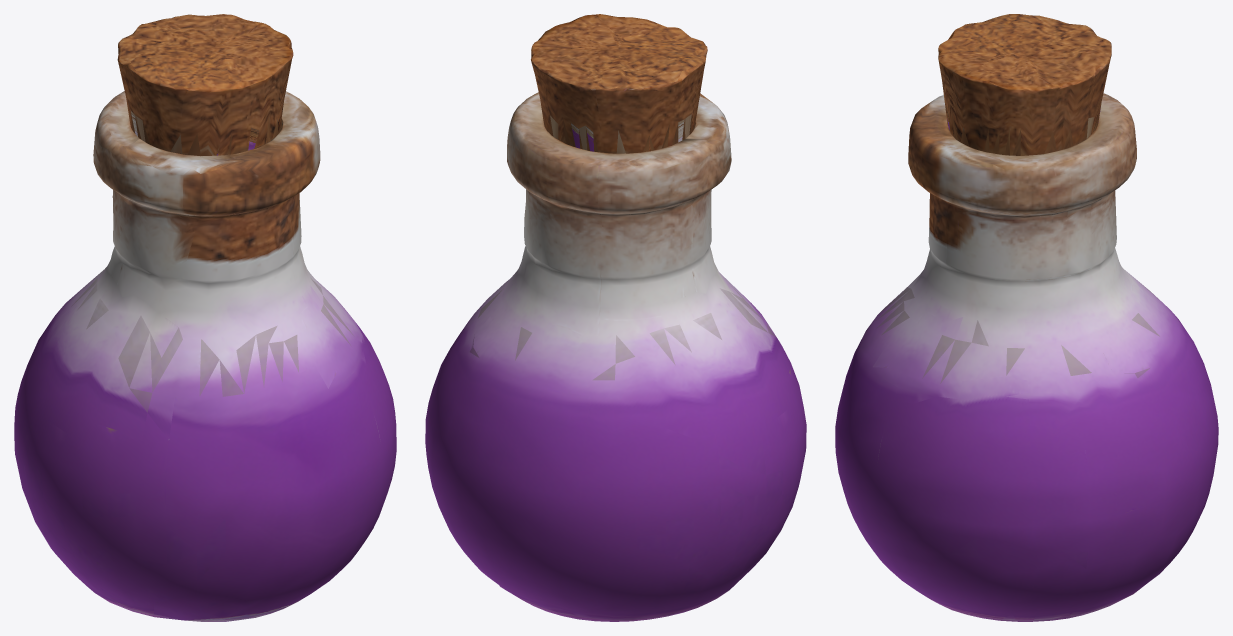
File: heal_potion.glb
3 views of the same model, side by side, from view 1: azimuth 30°, elevation 25°; view 2: azimuth 150°, elevation 25°; view 3: azimuth 270°, elevation 25° (orthographic).
Visible parts, largest first — view 1: tripo_4523320e_c9a9_4504_9091_c77c51c192ec; view 2: tripo_4523320e_c9a9_4504_9091_c77c51c192ec; view 3: tripo_4523320e_c9a9_4504_9091_c77c51c192ec.
Part boxes in pixels (x1,y1,x2,y2): tripo_4523320e_c9a9_4504_9091_c77c51c192ec: [14, 14, 396, 621]; tripo_4523320e_c9a9_4504_9091_c77c51c192ec: [425, 14, 806, 621]; tripo_4523320e_c9a9_4504_9091_c77c51c192ec: [835, 14, 1218, 621].
Size of the model in its own units: 0.6431 by 0.9993 by 0.6474.
1 material, 1 textured.
